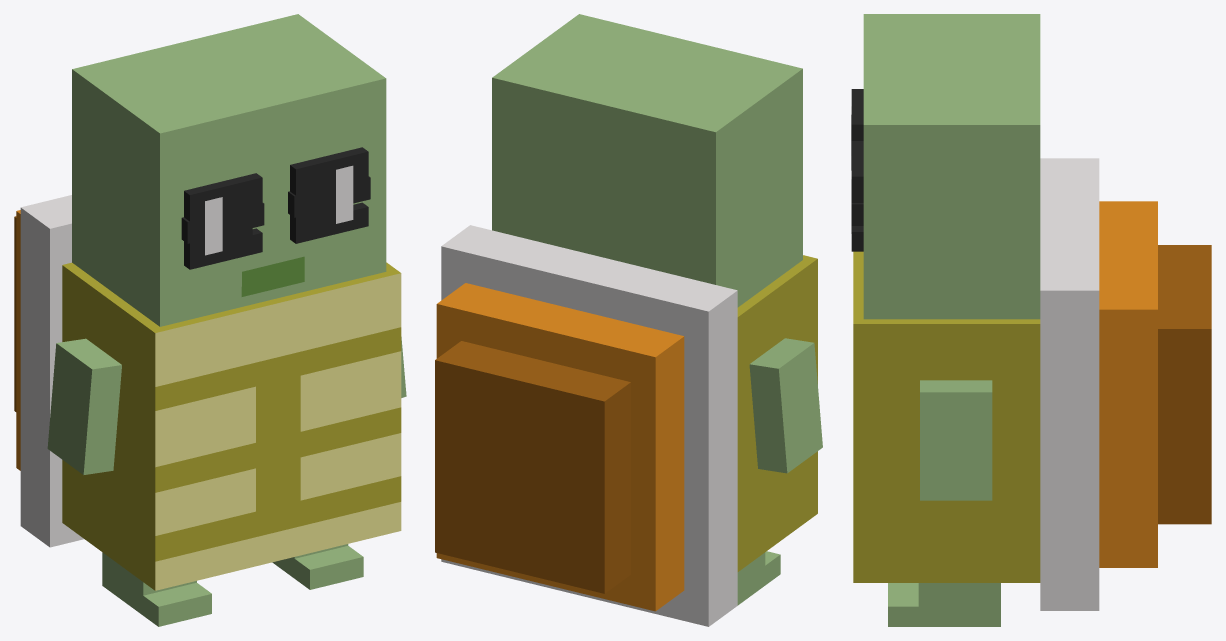
The picture shows the model from 3 angles, left to right: view 1: azimuth 30°, elevation 25°; view 2: azimuth 150°, elevation 25°; view 3: azimuth 270°, elevation 25°; orthographic projection.
Parts seen in each view (by area): view 1: Ch_06, Ch_06_Wing_L, Ch_06_Leg_L, Ch_06_Eye_03_L, Ch_06_Eye_03_R, Ch_06_Leg_R; view 2: Ch_06, Ch_06_Wing_L, Ch_06_Leg_L; view 3: Ch_06, Ch_06_Wing_R, Ch_06_Leg_R, Ch_06_Eye_03_R, Ch_06_Eye_03_L.
Boxes of the visible parts, x1,y1,x2,y2 form: Ch_06: (14,14,401,590); Ch_06_Wing_L: (47,338,121,474); Ch_06_Leg_L: (102,552,211,626); Ch_06_Eye_03_L: (184,173,262,269); Ch_06_Eye_03_R: (290,147,368,243); Ch_06_Leg_R: (272,544,363,589); Ch_06: (435,14,817,626); Ch_06_Wing_L: (749,338,822,473); Ch_06_Leg_L: (737,551,780,605); Ch_06: (851,14,1211,610); Ch_06_Wing_R: (920,380,992,500); Ch_06_Leg_R: (888,583,1000,626); Ch_06_Eye_03_R: (851,141,863,251); Ch_06_Eye_03_L: (851,89,863,140).
Bounding box in the file's own units: 7.43 × 11.1 × 7.14.
